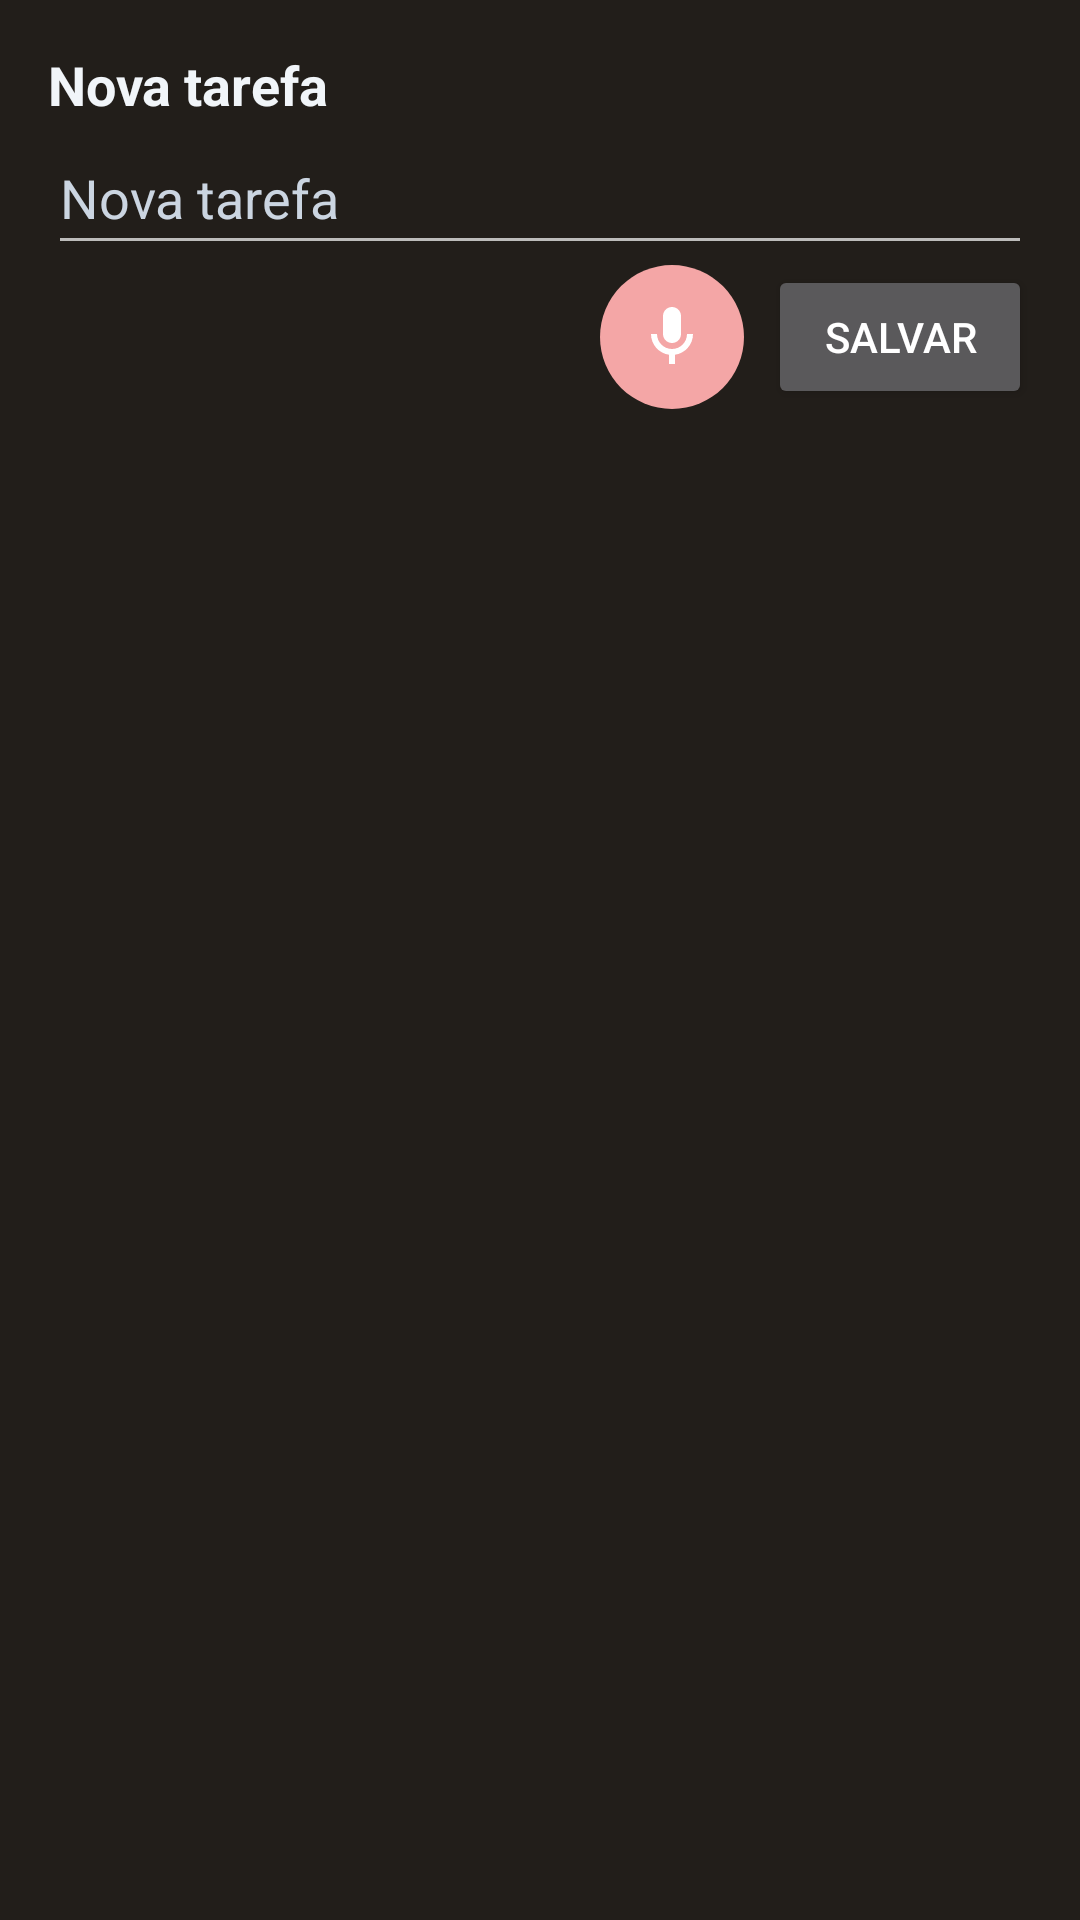

Named icons in this screenshot (1080w x 1920h) and their bounding boxes, box(x1, y1, x2, y2):
Falar tarefa: box(600, 265, 744, 409)
